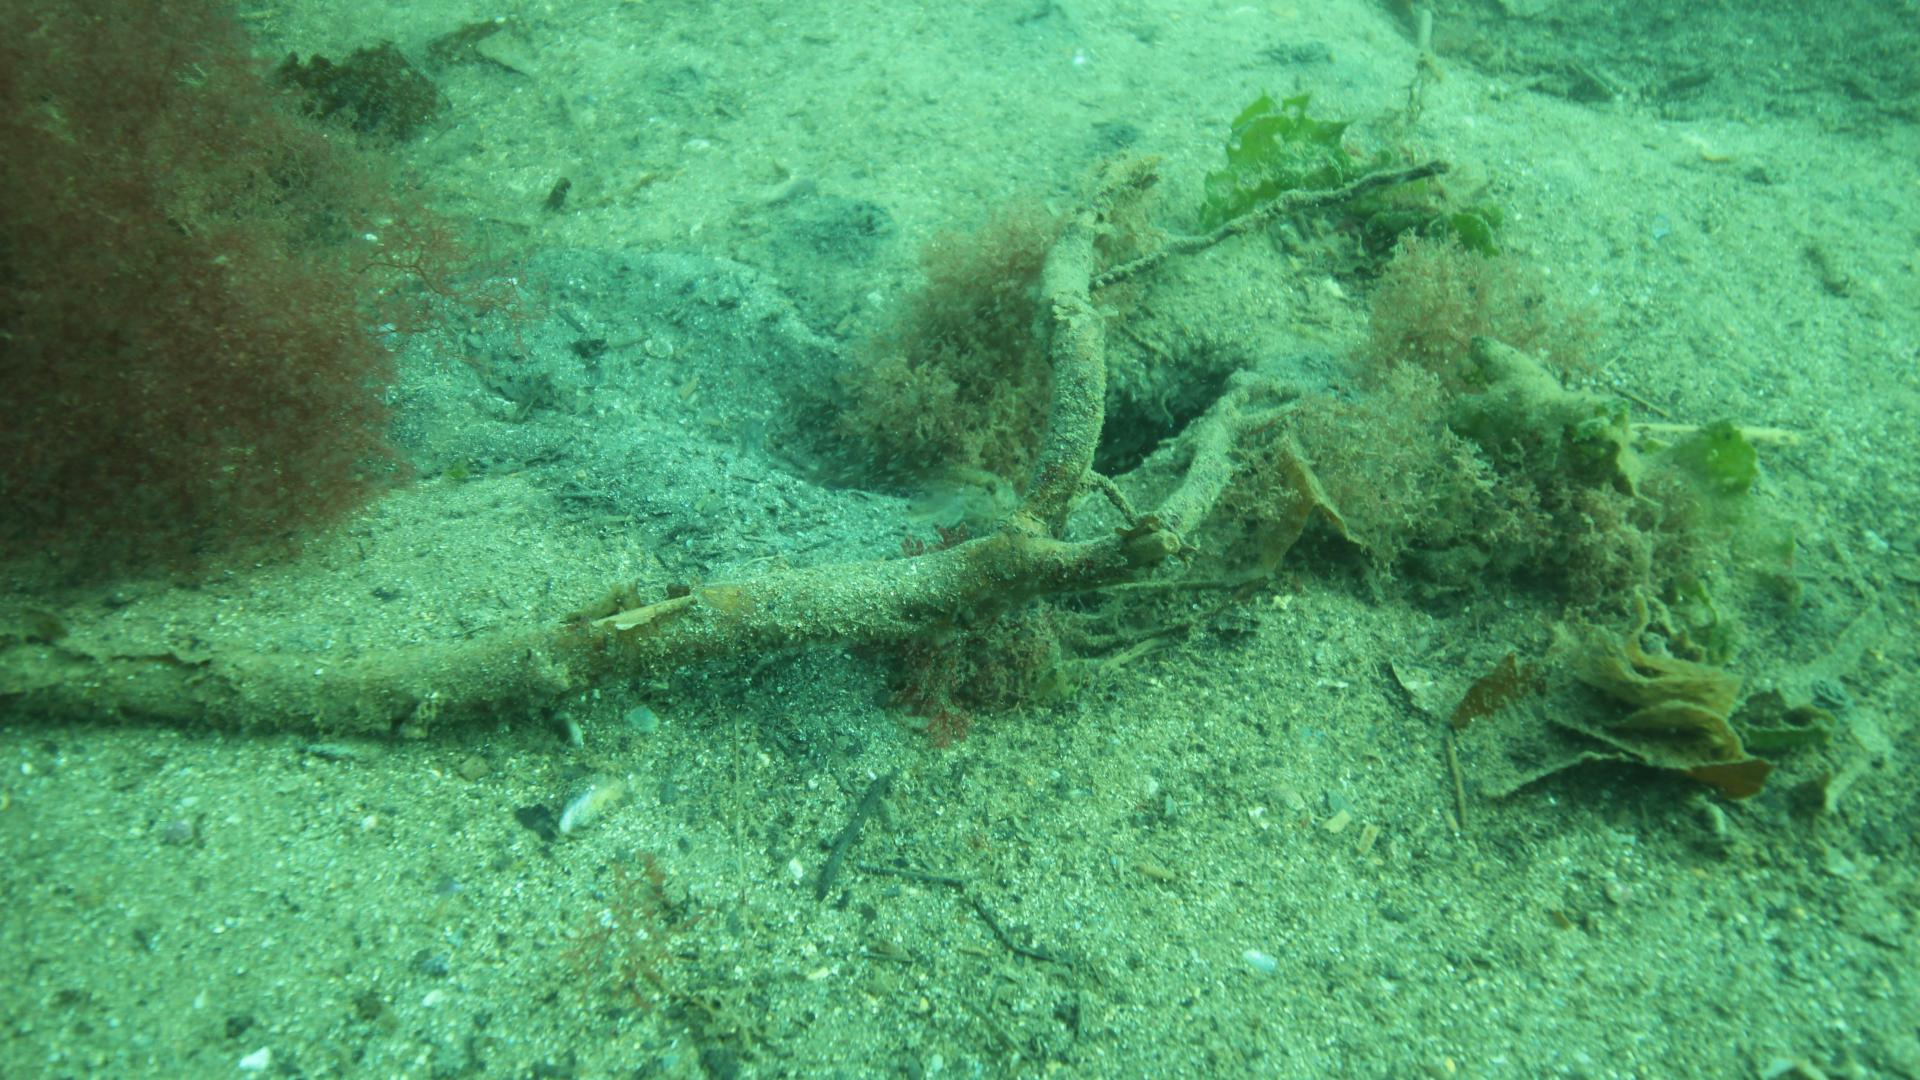wood: (0, 231, 1245, 732)
